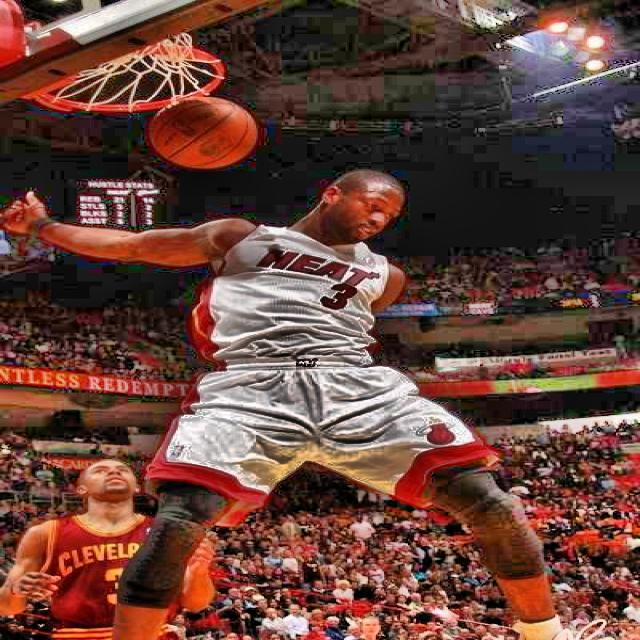board: (148, 98, 258, 170)
